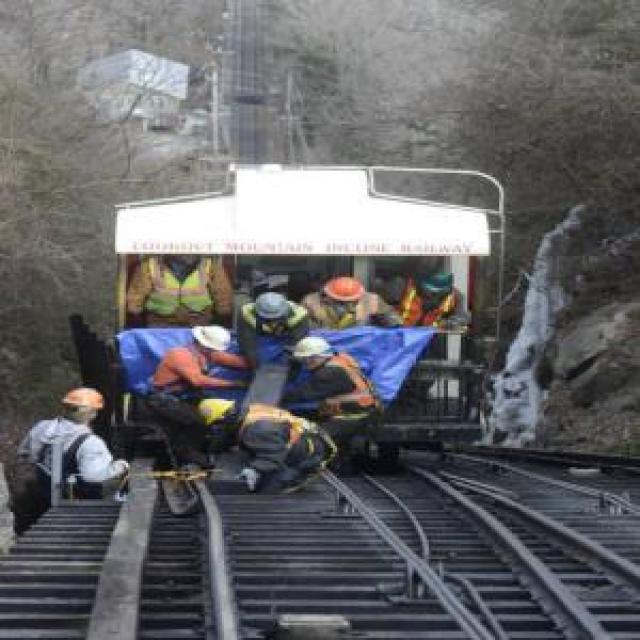danger: (8, 385, 129, 539), (280, 336, 390, 473), (198, 396, 342, 496), (147, 327, 254, 422), (125, 254, 231, 328), (301, 273, 403, 344), (234, 293, 314, 379), (390, 266, 470, 338)
